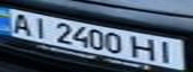0: (106, 29, 127, 55), (87, 27, 106, 52)
2: (51, 19, 72, 45)
4: (69, 24, 90, 48)
A: (6, 10, 36, 35)
H: (130, 34, 163, 61)
I: (151, 38, 184, 64), (27, 15, 54, 39)
